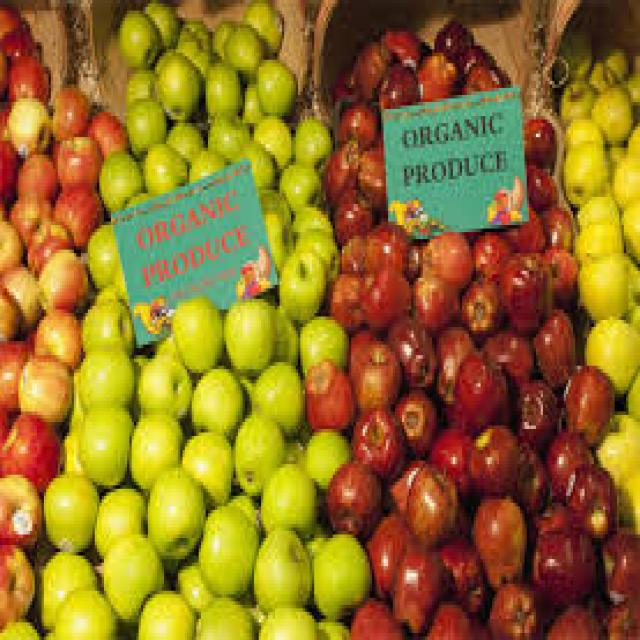organic waste: (529, 517, 596, 608), (143, 464, 206, 559), (469, 485, 527, 584), (194, 503, 257, 594), (99, 531, 164, 619), (324, 443, 384, 535), (0, 404, 60, 496), (37, 542, 95, 636), (252, 520, 307, 616), (312, 531, 370, 619), (219, 292, 275, 376), (76, 401, 134, 482), (229, 408, 282, 496), (390, 538, 439, 633), (247, 355, 303, 436), (90, 478, 148, 556), (259, 450, 312, 535), (351, 398, 402, 486), (451, 345, 504, 429), (187, 362, 243, 440), (127, 411, 183, 489), (434, 531, 486, 612), (42, 468, 94, 548), (582, 313, 638, 387), (178, 425, 231, 503), (14, 355, 72, 426), (562, 358, 612, 439), (429, 316, 474, 404), (76, 345, 136, 408), (386, 310, 437, 384), (575, 243, 624, 320), (404, 461, 450, 542), (78, 288, 132, 356), (134, 352, 192, 415), (566, 457, 615, 531), (351, 334, 400, 408), (370, 506, 409, 598), (497, 250, 543, 327), (32, 302, 84, 370), (418, 228, 472, 292), (303, 355, 351, 426), (546, 429, 592, 503), (35, 236, 83, 306), (51, 176, 99, 246), (298, 309, 347, 376), (594, 412, 638, 486), (428, 426, 472, 500), (275, 250, 321, 320), (171, 299, 219, 366), (134, 588, 199, 636), (53, 584, 113, 636), (600, 520, 638, 602), (469, 422, 511, 496), (488, 573, 536, 637), (363, 264, 409, 330), (192, 588, 254, 636), (559, 137, 605, 201), (347, 35, 398, 92), (0, 471, 39, 545), (513, 432, 548, 514), (0, 538, 32, 626), (157, 49, 199, 116), (534, 302, 570, 380), (486, 327, 532, 387), (303, 429, 349, 489), (395, 380, 434, 450), (95, 148, 143, 204), (2, 257, 40, 327), (589, 81, 631, 144), (414, 267, 455, 331), (259, 179, 289, 264), (171, 552, 213, 612), (5, 95, 50, 151), (198, 56, 242, 113), (328, 190, 374, 243), (256, 52, 296, 112), (460, 267, 497, 331), (50, 130, 101, 176), (83, 218, 118, 285), (328, 264, 367, 324), (238, 0, 282, 53), (517, 376, 557, 433), (141, 141, 187, 190), (249, 109, 289, 165), (122, 95, 164, 148), (254, 598, 312, 636), (296, 225, 335, 281), (289, 116, 330, 169), (7, 49, 48, 102), (116, 7, 160, 56), (376, 56, 416, 109), (279, 158, 319, 211), (222, 21, 261, 74), (324, 137, 358, 197), (14, 194, 53, 246), (361, 222, 406, 267), (349, 598, 402, 636), (425, 594, 471, 636), (501, 204, 543, 250), (384, 454, 421, 506), (139, 0, 178, 49), (236, 141, 275, 190), (23, 218, 62, 267), (545, 602, 601, 636), (573, 222, 622, 260), (522, 109, 555, 165), (418, 46, 453, 98), (48, 85, 88, 130), (0, 333, 25, 404), (335, 95, 377, 137), (382, 25, 428, 63), (12, 152, 53, 194), (600, 591, 638, 636), (88, 106, 125, 151), (559, 70, 592, 120), (356, 134, 381, 200), (469, 232, 508, 274), (0, 98, 16, 200), (430, 14, 471, 53), (540, 242, 578, 284), (458, 53, 503, 88), (164, 123, 203, 162), (524, 158, 554, 208), (273, 299, 298, 359), (612, 151, 638, 208), (559, 21, 589, 70), (559, 109, 601, 144), (614, 468, 638, 528), (173, 18, 210, 56), (289, 200, 328, 236), (206, 120, 247, 154), (508, 204, 541, 246), (0, 214, 23, 274), (187, 137, 222, 176), (545, 201, 571, 253), (337, 229, 365, 274), (229, 489, 261, 527), (601, 32, 628, 77), (58, 419, 81, 471), (575, 194, 617, 222), (0, 278, 21, 334), (176, 18, 210, 52), (238, 74, 261, 123), (330, 64, 356, 105), (534, 496, 564, 531), (622, 49, 638, 113), (622, 197, 638, 257), (587, 56, 614, 88), (70, 362, 86, 415), (125, 67, 155, 95), (0, 24, 35, 46), (626, 260, 638, 324), (316, 612, 346, 636), (210, 18, 231, 52), (143, 334, 176, 355), (624, 369, 638, 418), (0, 0, 18, 35), (0, 619, 37, 636), (617, 123, 638, 151), (458, 42, 485, 63), (603, 137, 624, 158), (92, 282, 122, 296), (0, 42, 7, 92), (124, 187, 146, 200)
